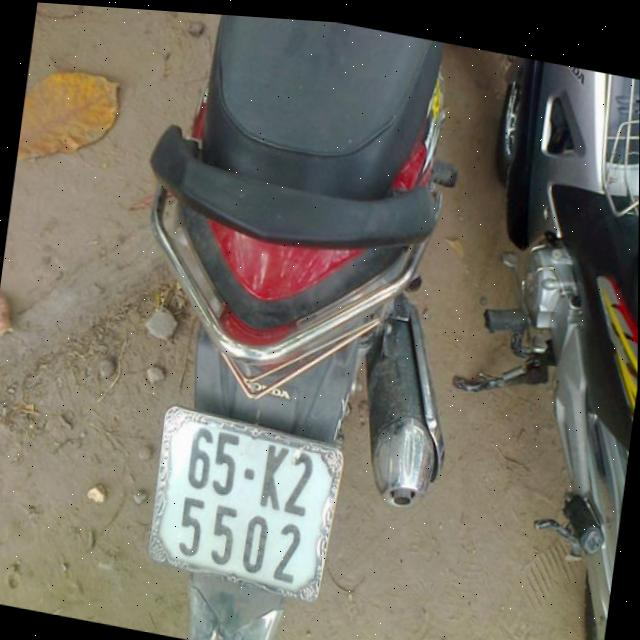motorcycle: (80, 6, 499, 640), (418, 50, 640, 640)
plate: (134, 388, 353, 608)
